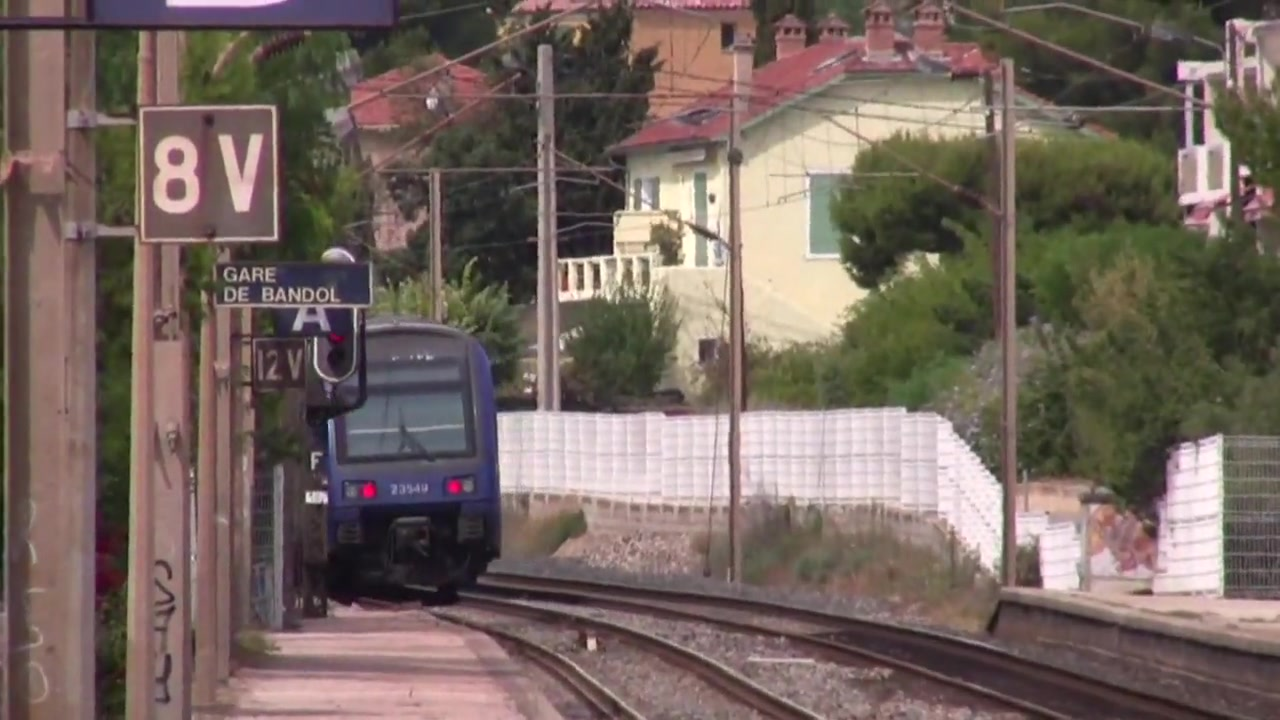train: (295, 313, 501, 600)
